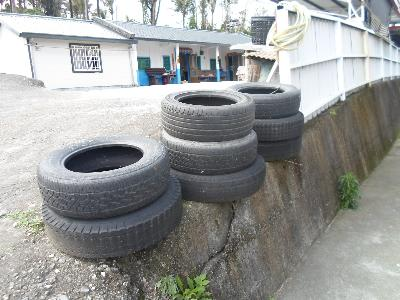tire: (41, 172, 184, 259), (36, 133, 172, 220), (162, 88, 257, 141), (164, 155, 268, 203), (161, 129, 259, 175), (230, 82, 302, 117)
